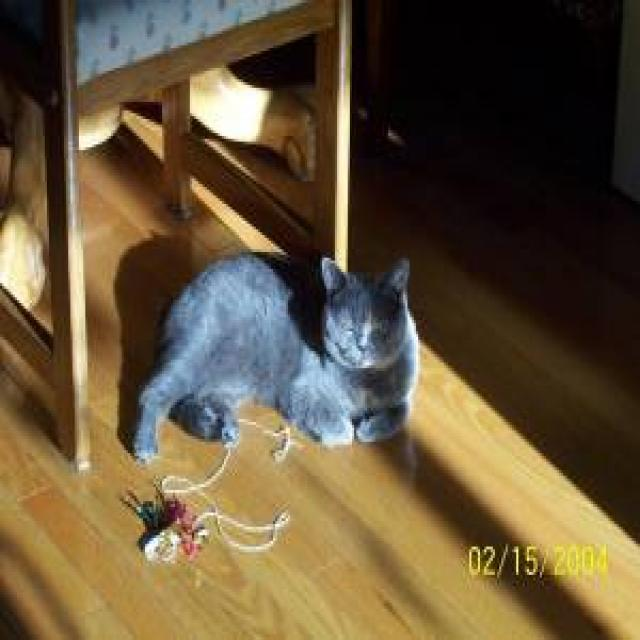British_Shorthair: (314, 241, 425, 383)
